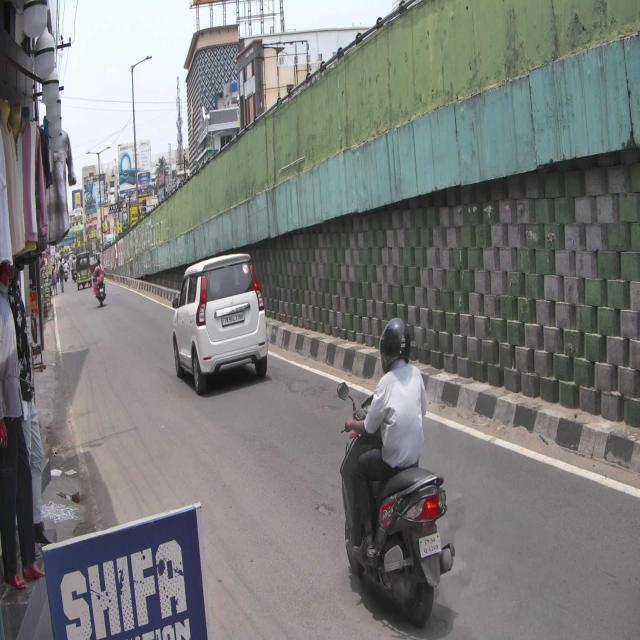single_rider: (336, 314, 456, 624)
